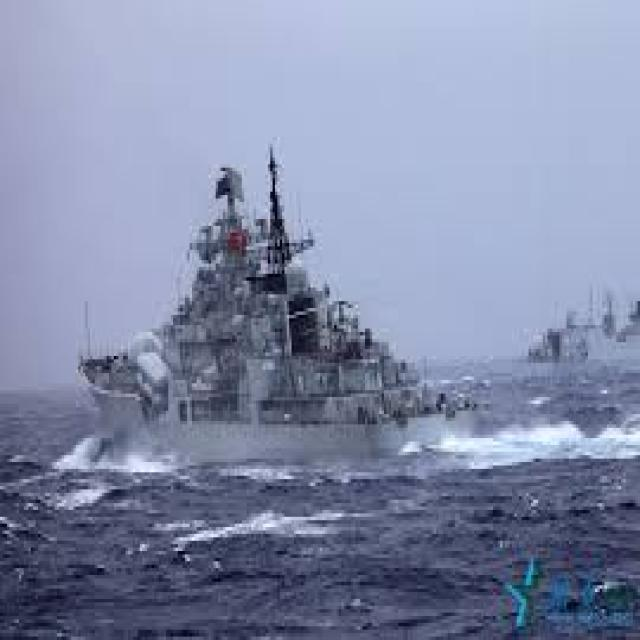navalvessels: (78, 155, 480, 464), (520, 270, 640, 355)
